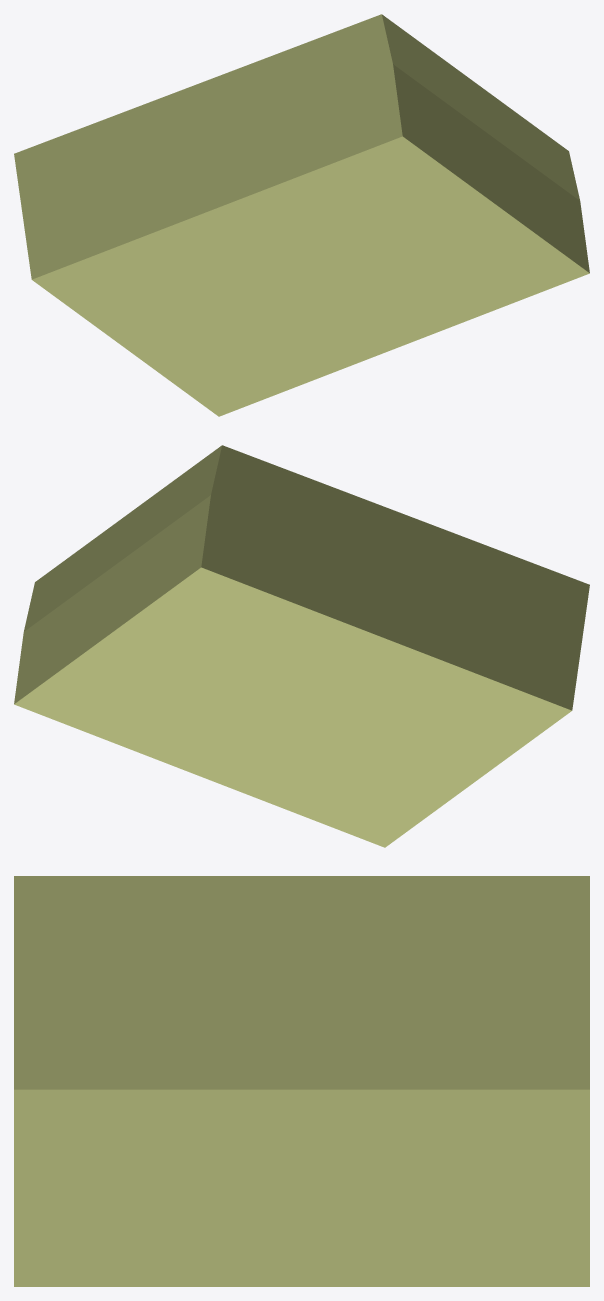
3 views of the same model, one above another, from view 1: azimuth 30°, elevation 25°; view 2: azimuth 150°, elevation 25°; view 3: azimuth 270°, elevation 25° (orthographic). The views are drawn at different scales.
Parts seen in each view (by area): view 1: 0_1_3_2_1_1_1_1_2_0; view 2: 0_1_3_2_1_1_1_1_2_0; view 3: 0_1_3_2_1_1_1_1_2_0.
Part boxes in pixels (x1,y1,x2,y2): 0_1_3_2_1_1_1_1_2_0: (14, 14, 589, 416); 0_1_3_2_1_1_1_1_2_0: (14, 445, 589, 847); 0_1_3_2_1_1_1_1_2_0: (14, 876, 589, 1286).
Size of the model in its own units: 10.79 by 4.78 by 9.
